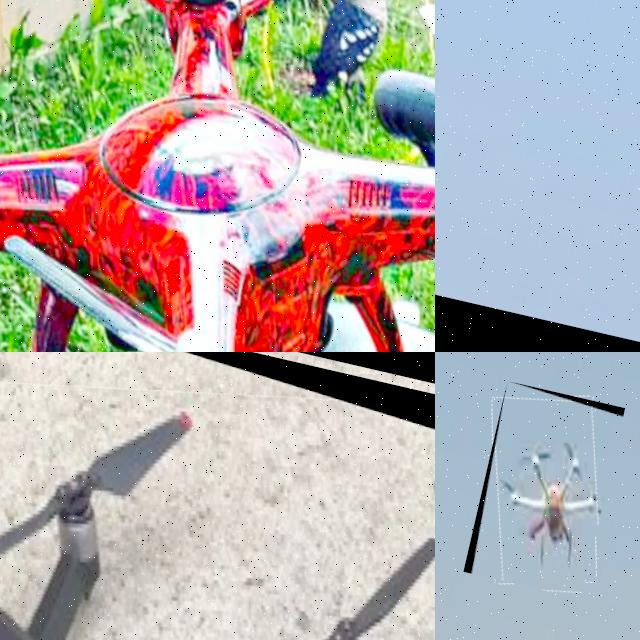drone: (0, 0, 435, 352), (0, 352, 435, 640), (462, 381, 624, 598)
